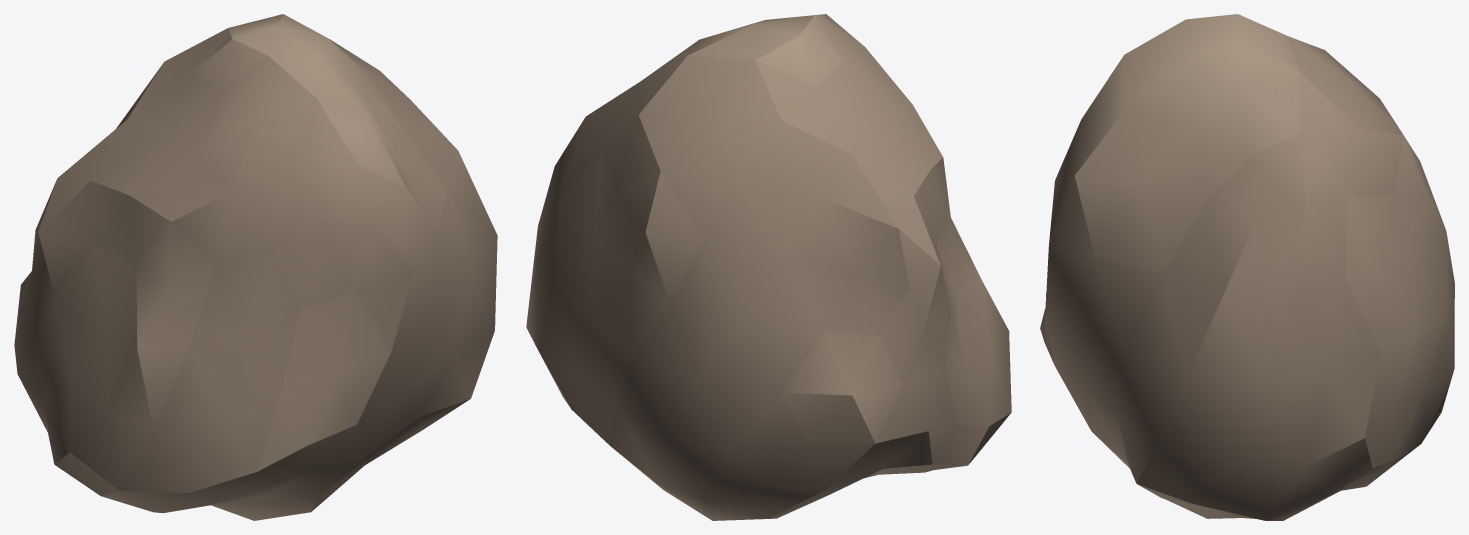
Rendered from Rock_3_M_Color3.fbx.
3 renders of one model, left to right at view 1: azimuth 30°, elevation 25°; view 2: azimuth 150°, elevation 25°; view 3: azimuth 270°, elevation 25°, orthographic. The views are drawn at different scales.
Visible parts, largest first — view 1: Rock_3_M_Color3; view 2: Rock_3_M_Color3; view 3: Rock_3_M_Color3.
Part boxes in pixels (box(x1,y1,x2,y2)): Rock_3_M_Color3: box(14, 14, 497, 520); Rock_3_M_Color3: box(526, 14, 1011, 520); Rock_3_M_Color3: box(1040, 14, 1454, 520).
Bounding box in the file's own units: 3.43 × 3.6 × 2.81.
